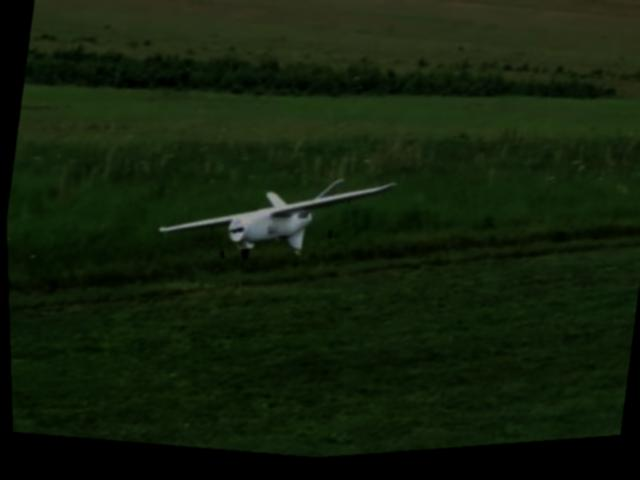uav: (151, 145, 401, 297)
